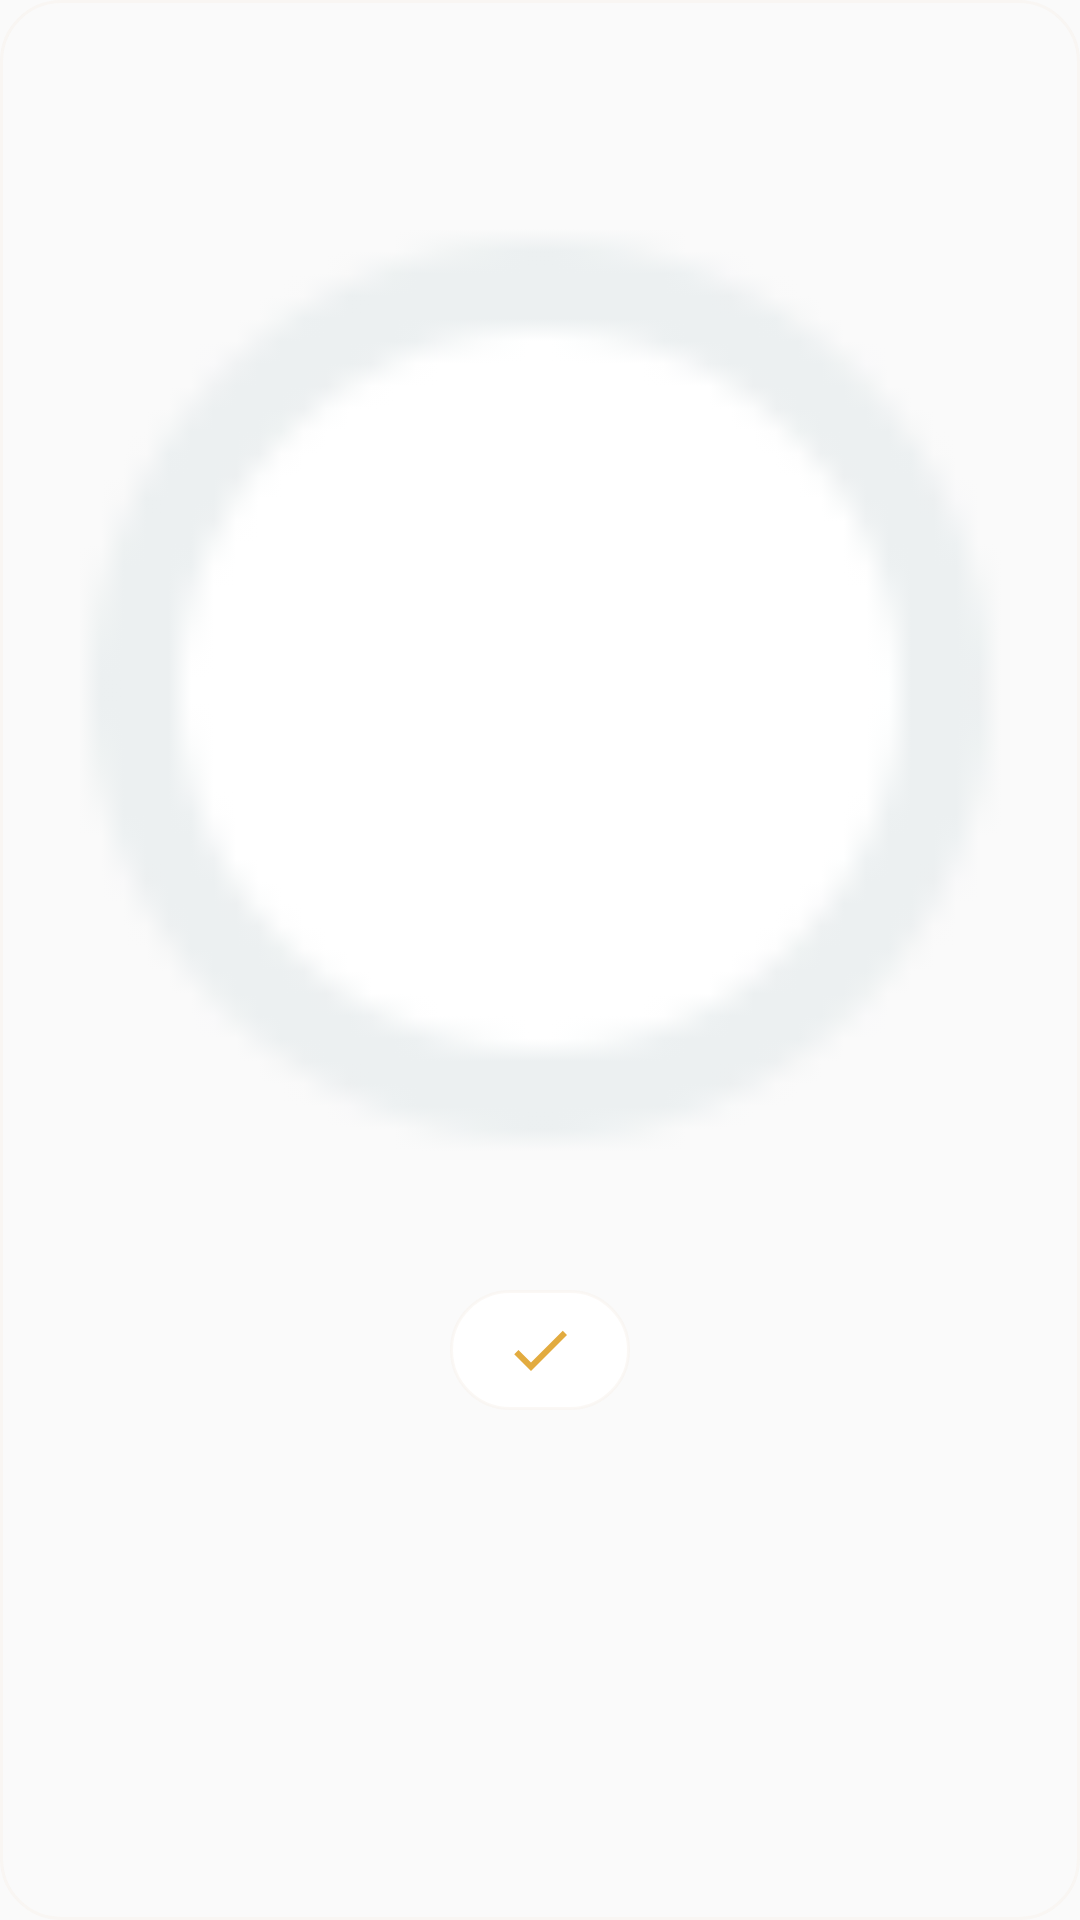

Icons on this 1080×1920 Android screen, each with the point to tap as point (x, y):
check: point (540, 1351)
